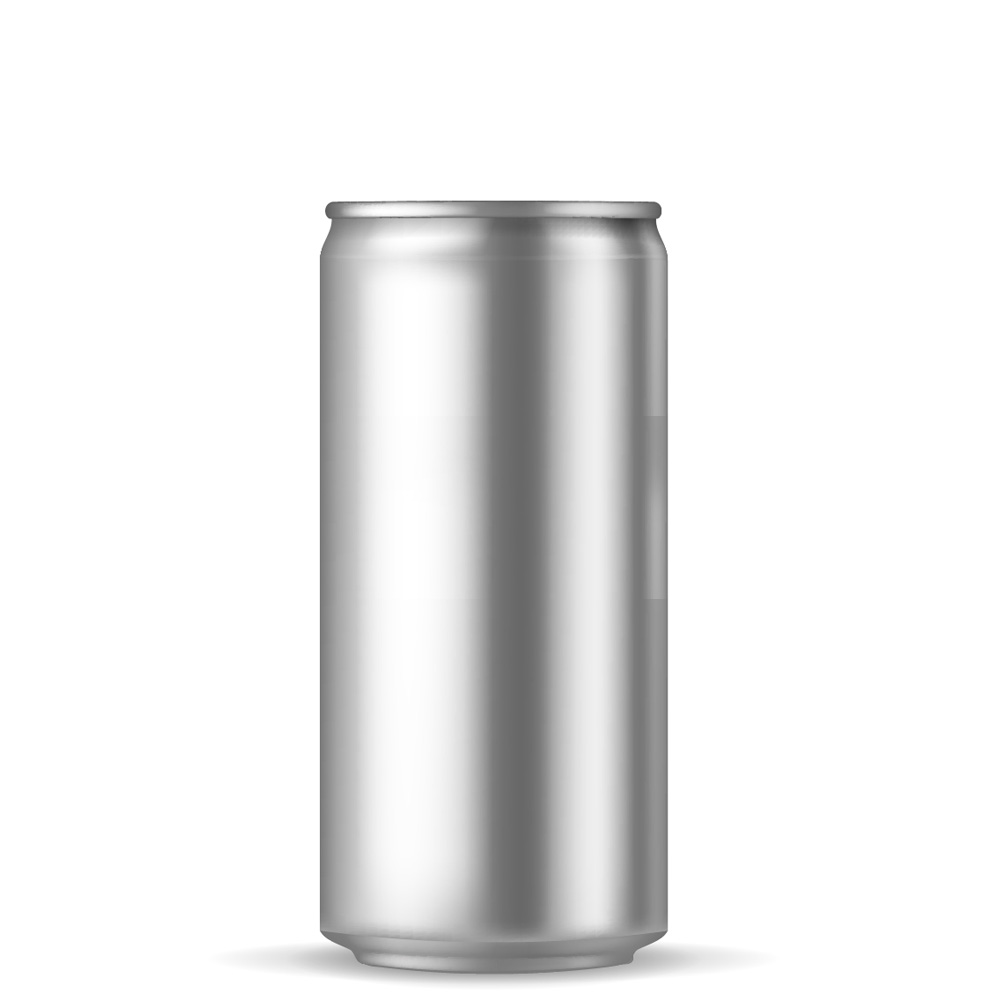can: (295, 191, 695, 988)
